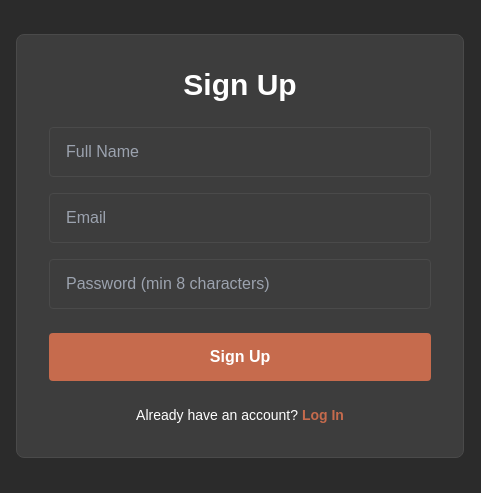
Test: Signup Page › Error Handling › displays generic error on network failure
Type "John Doe" into the field with placeholder "Full Name" at (240, 152), box [49,127,431,177]
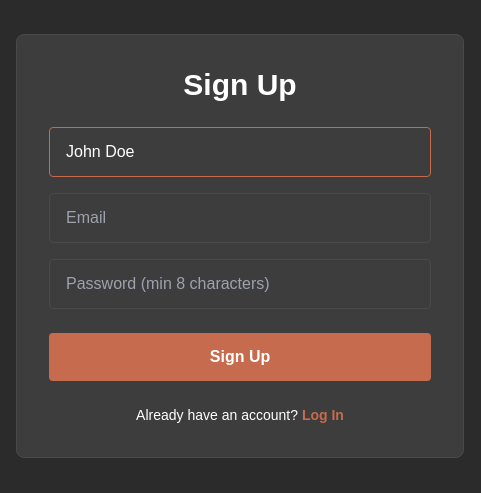
Type "john@example.com" into the field with placeholder "Email" at (240, 218), box [49,193,431,243]
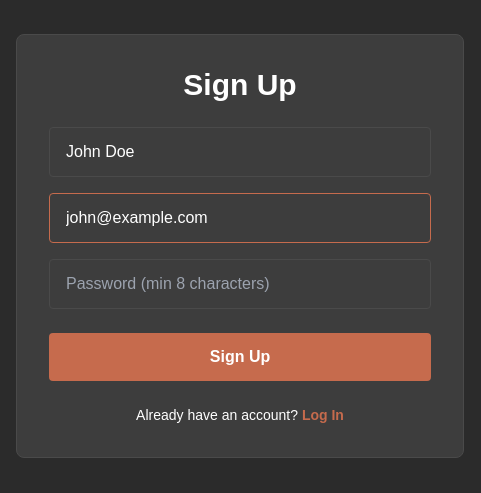
Type "password123" into the password field with placeholder "Password (min 8 characters)" at (240, 284), box [49,259,431,309]
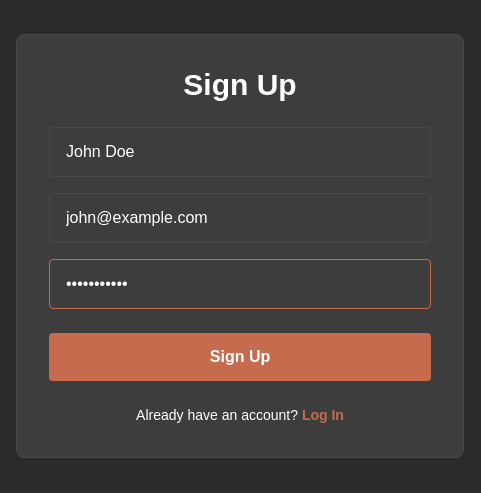
Click the button "Sign Up" at (240, 357), box [49,333,431,381]
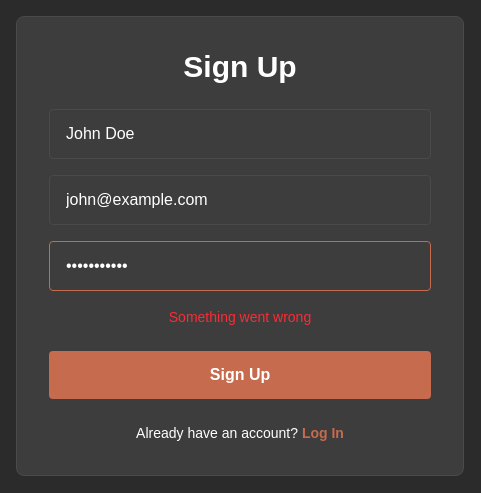
Now the text "Something went wrong" is shown, box [169,309,311,325]
